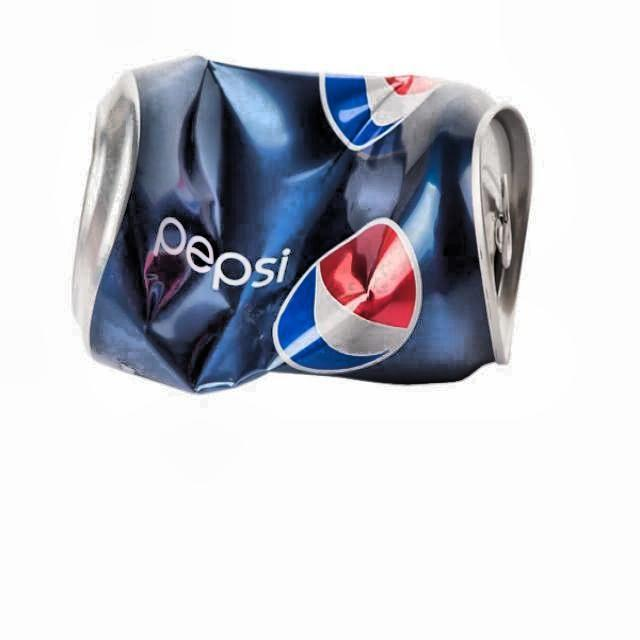metal: (67, 55, 537, 397)
